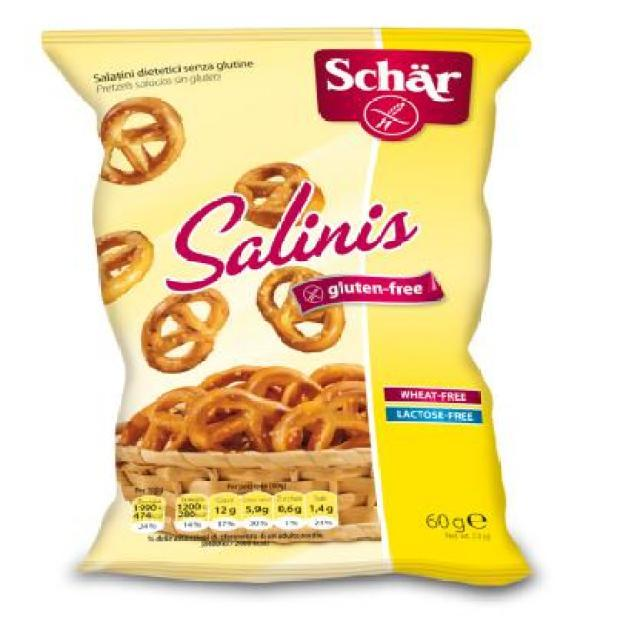Salatini: (37, 27, 554, 604)
